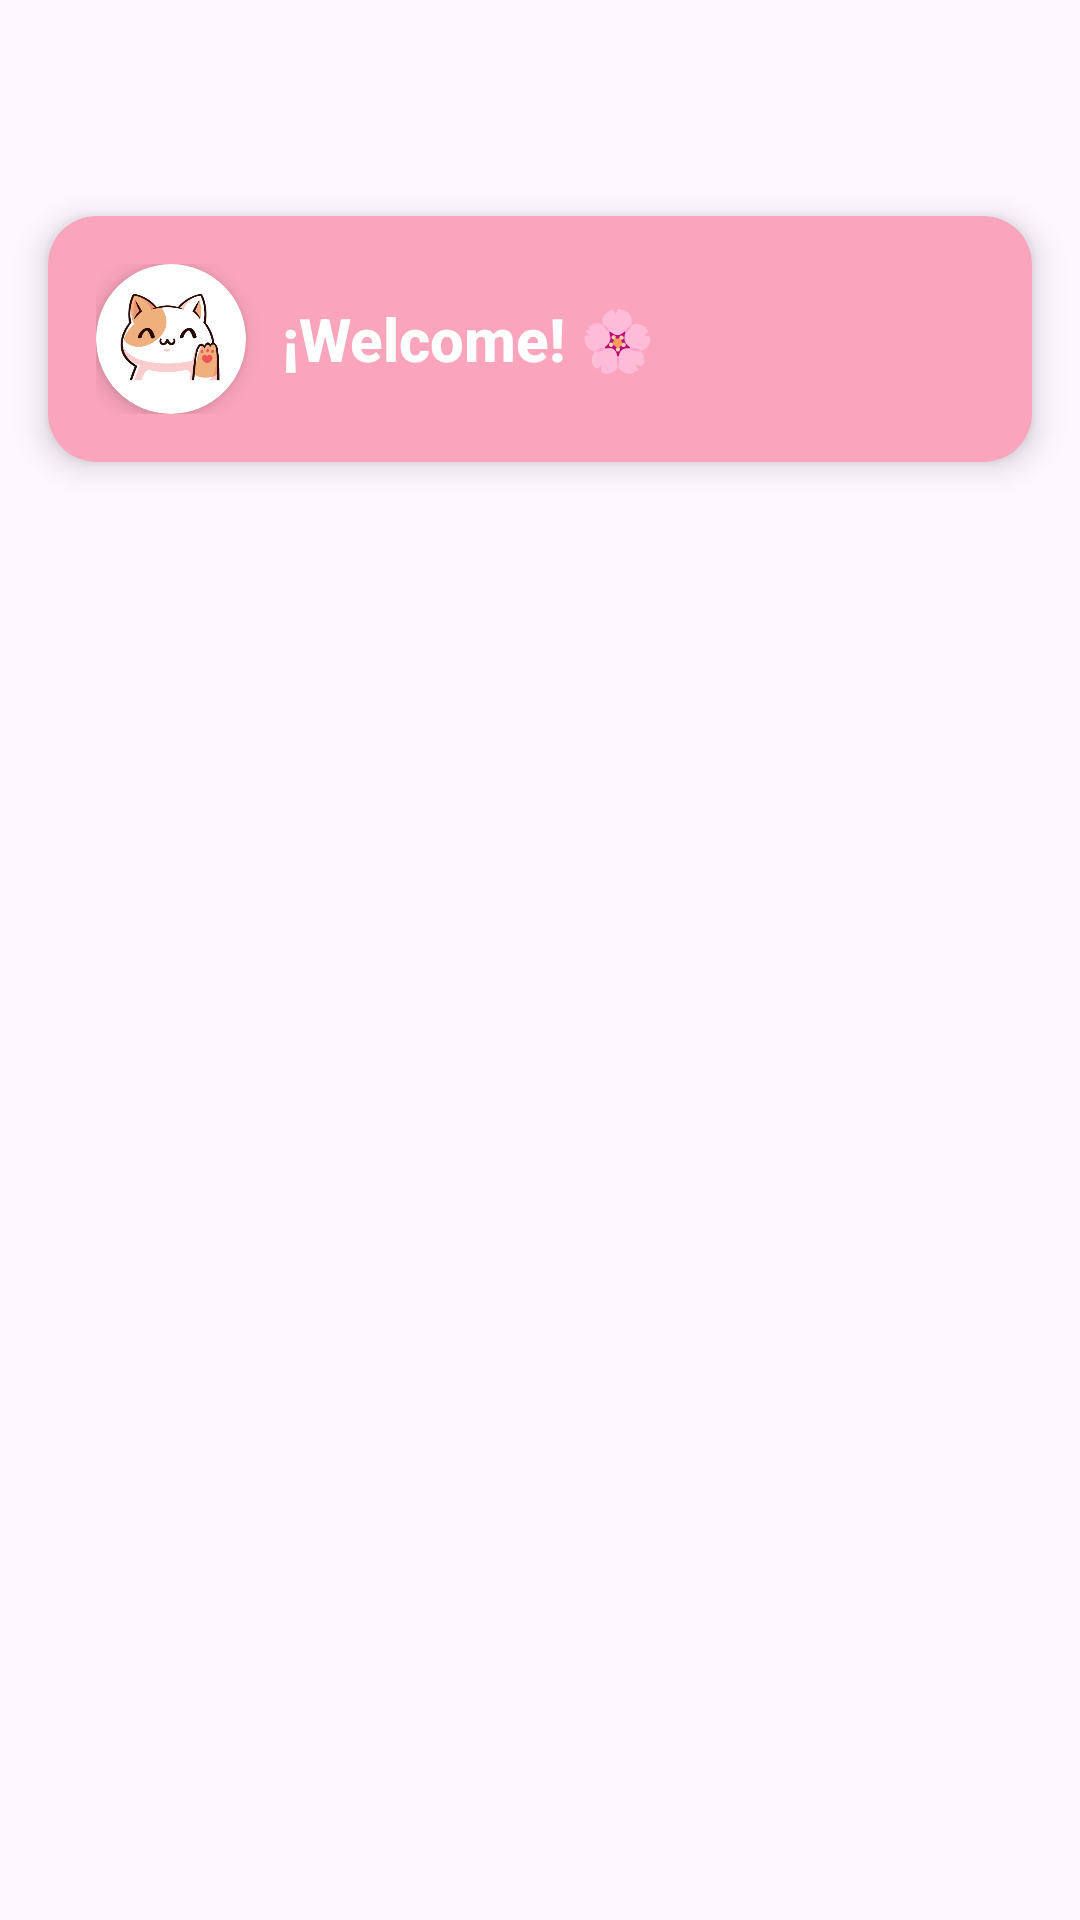

Point at icon controls on the screen. Image size 1080 × 1920, points as [x,y].
Cute Kitten: [171,339]
